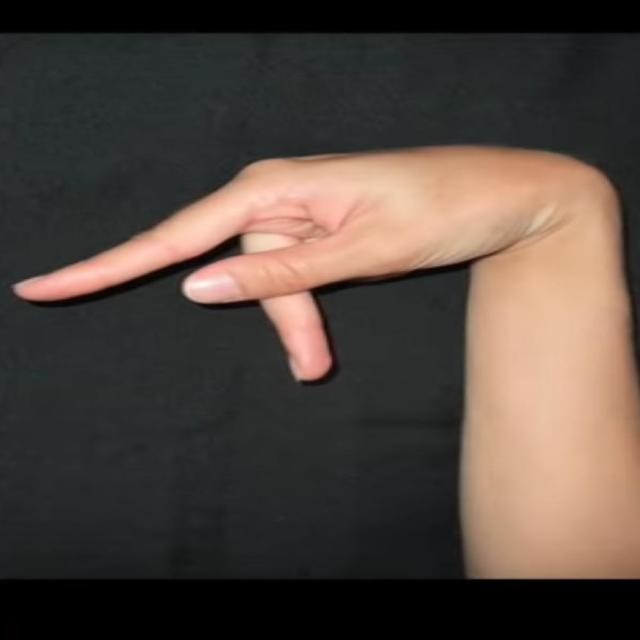O: (6, 145, 621, 392)
